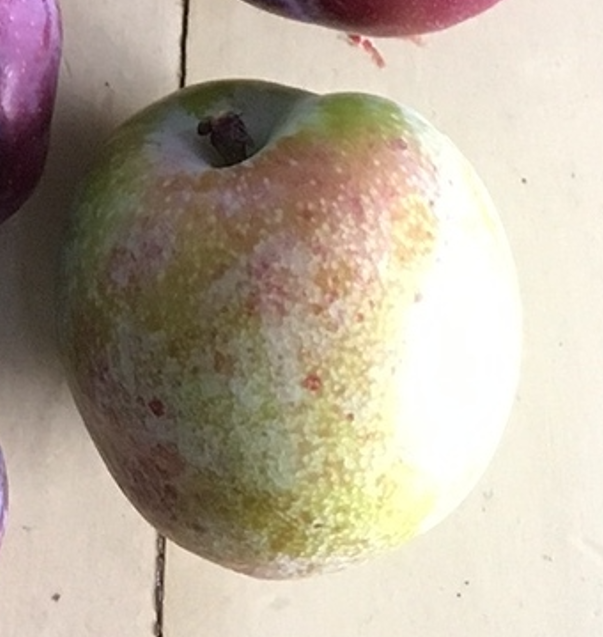plum_B: (54, 80, 521, 578)
